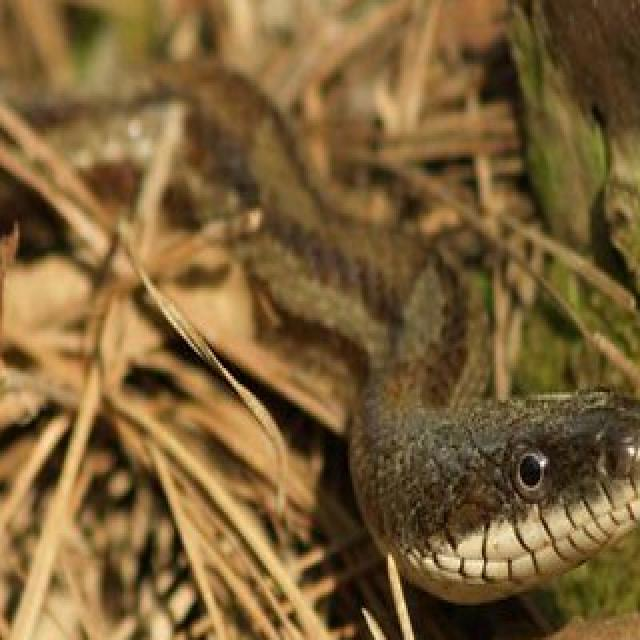Snake: (0, 59, 640, 597)
